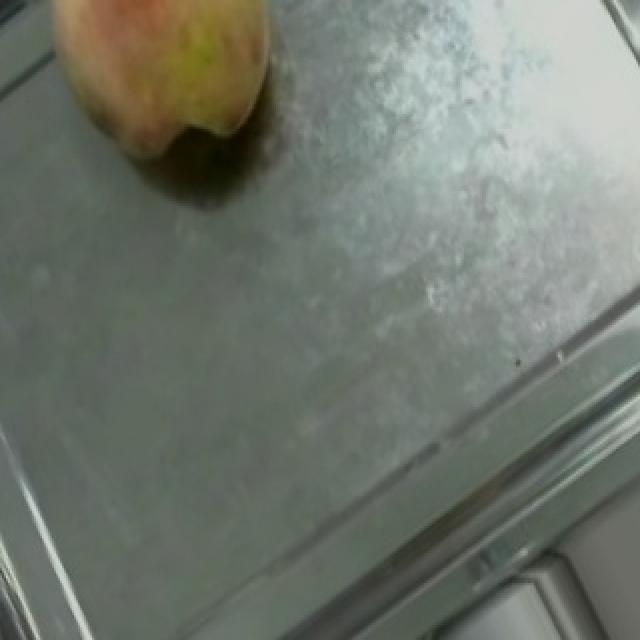Fruit: (10, 0, 312, 198)
